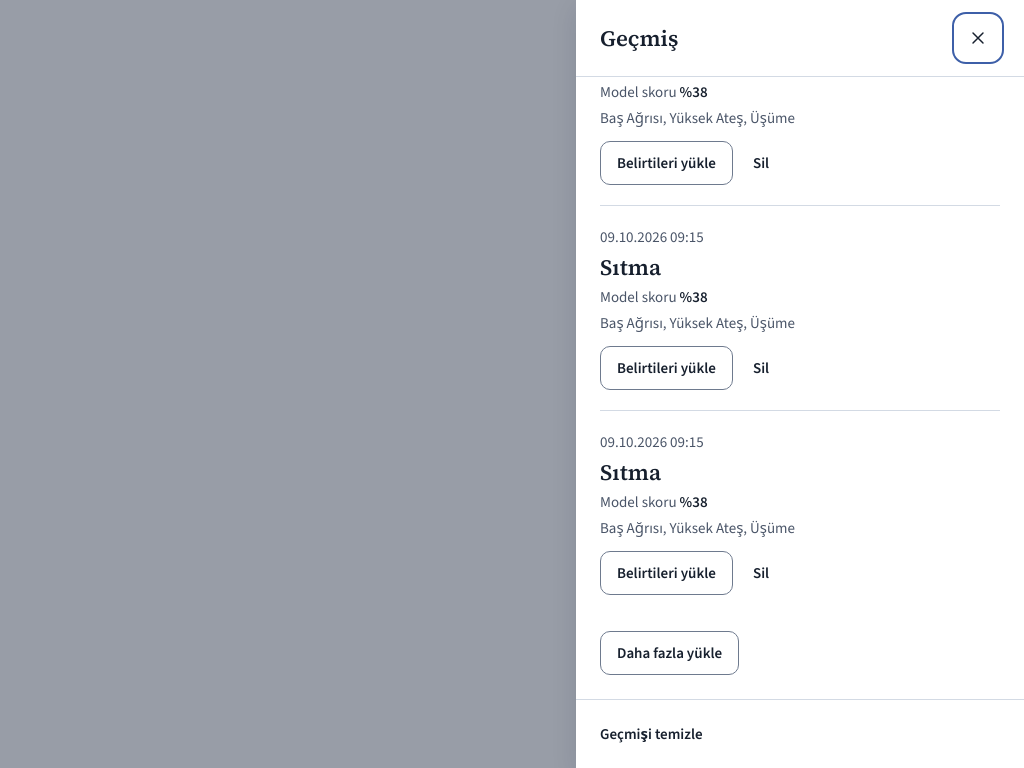
Test: HistoryDrawer › loads the next page at offset 50 and hides the button when complete
(page scrolled)
Click the button "Daha fazla yükle": coordinates (670, 653) [600,631,739,675]
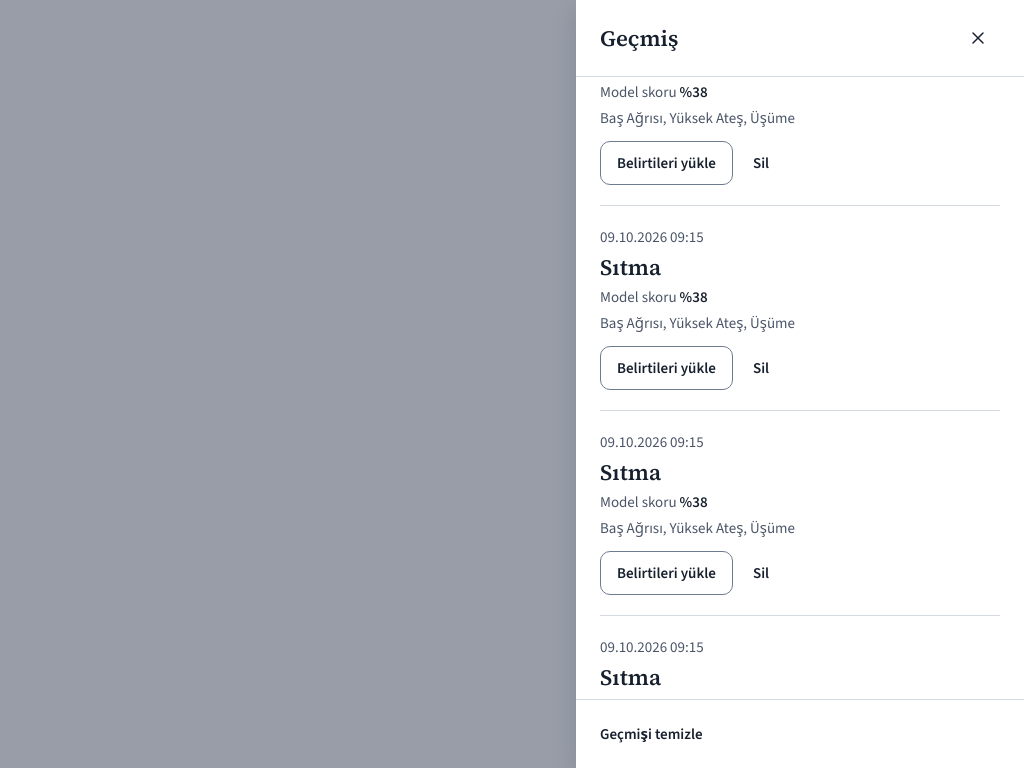
expect the button "Daha fazla yükle" is gone: met
